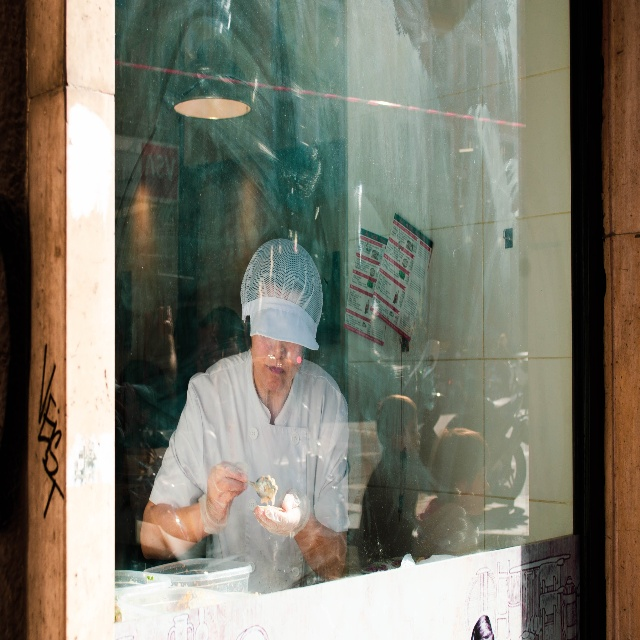Guantes: (197, 461, 249, 533), (254, 487, 311, 540)
